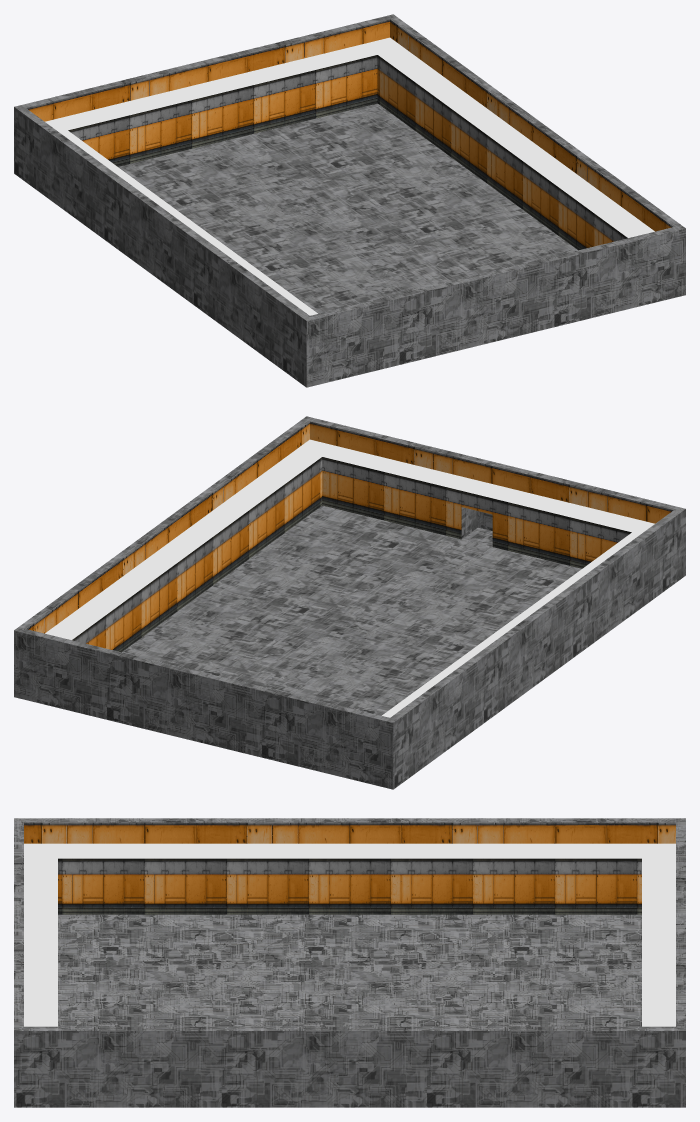
File: Scenerie 2.FBX
The picture shows the model from 3 angles, top to bottom: view 1: azimuth 30°, elevation 25°; view 2: azimuth 150°, elevation 25°; view 3: azimuth 270°, elevation 25°; orthographic projection. The views are drawn at different scales.
Visible parts, largest first — view 1: Plane001; view 2: Plane001; view 3: Plane001.
Boxes of the visible parts, x1=… form: Plane001: x1=14, y1=14, x2=685, y2=387; Plane001: x1=14, y1=416, x2=685, y2=789; Plane001: x1=14, y1=818, x2=685, y2=1107.
Size of the model in its own units: 122 by 20.59 by 164.
